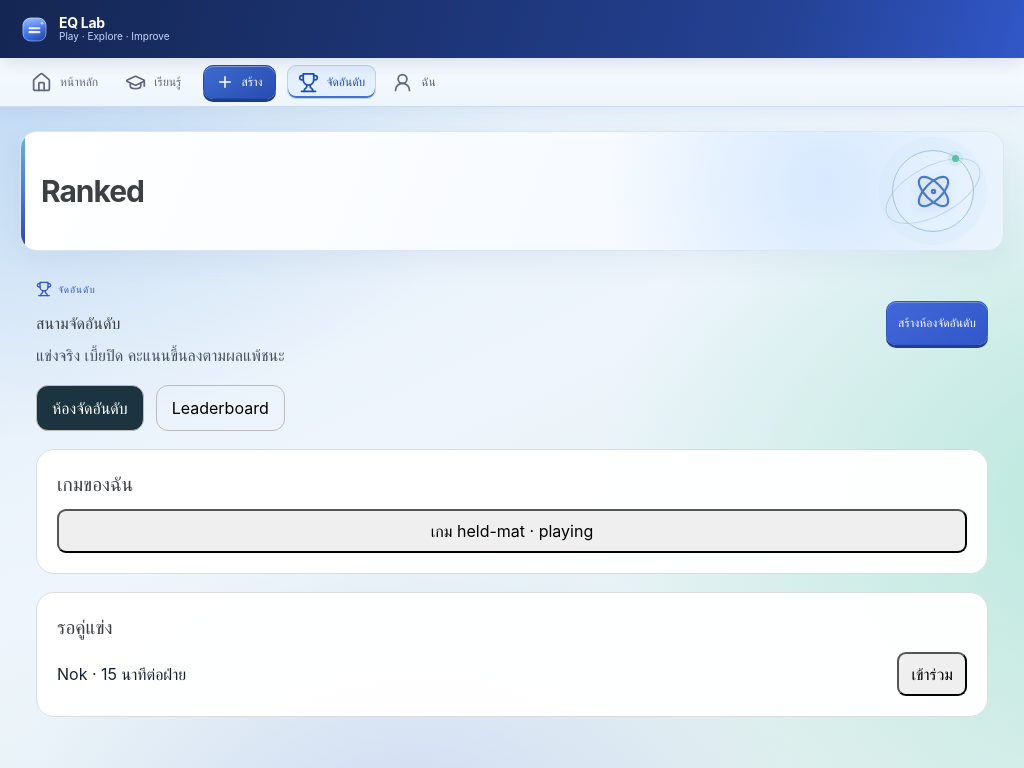
Test: in Thai › shows the whole confirmation in Thai
Step 1. Click the button "เข้าร่วม" → (932, 674), box [897, 652, 967, 696]
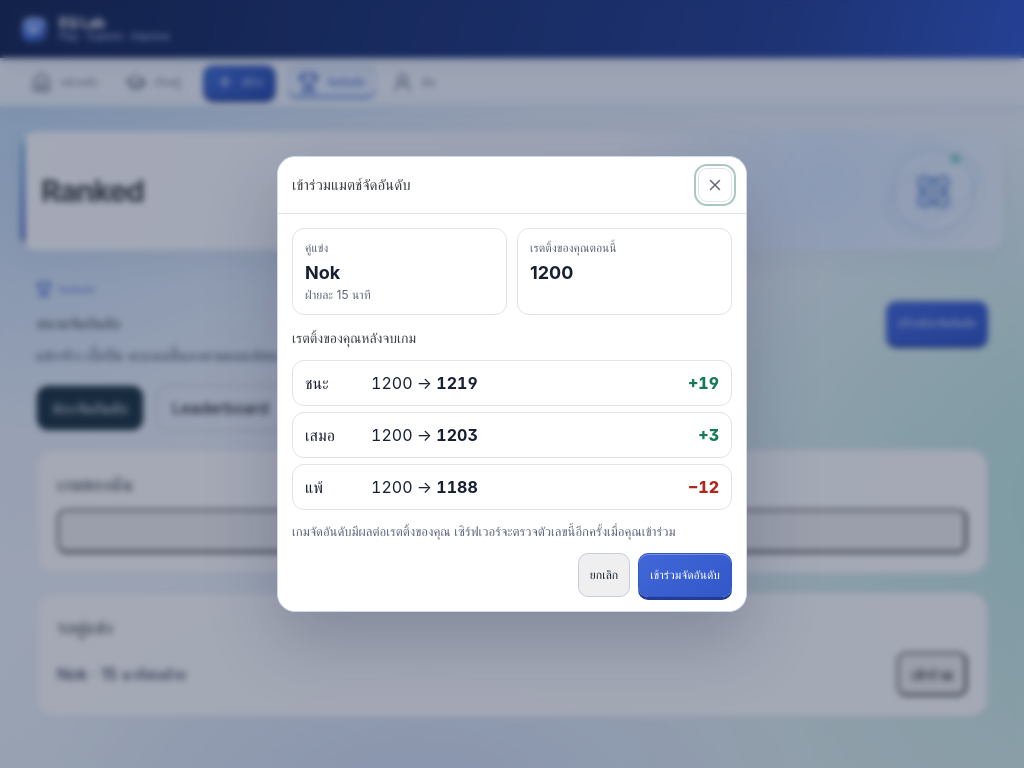
Result: the text "Nok" is shown at [305, 262, 340, 283]
Result: the text "ฝ่ายละ 15 นาที" is shown at [305, 287, 371, 302]
Result: the text "เรตติ้งของคุณตอนนี้" is shown at [530, 240, 617, 255]
